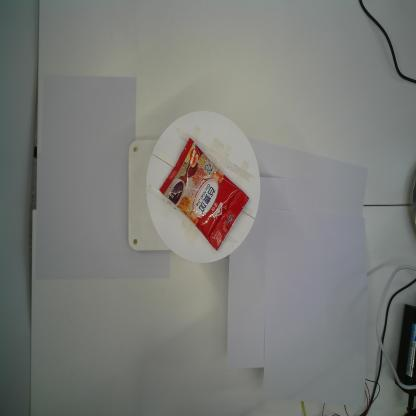Instant Drink: (159, 137, 249, 252)
